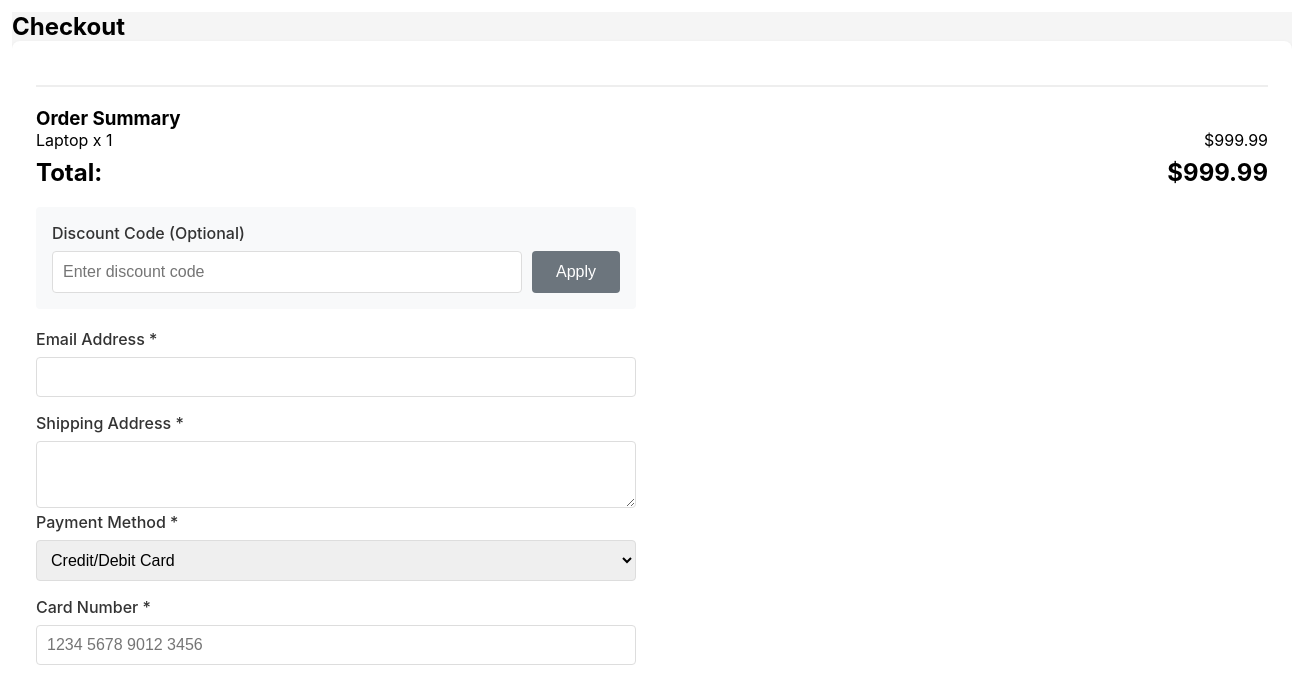
Test case: Checkout Component › applies discount code
Type "SAVE10" into the field with placeholder "Enter discount code" at (287, 272), box [52, 251, 522, 293]
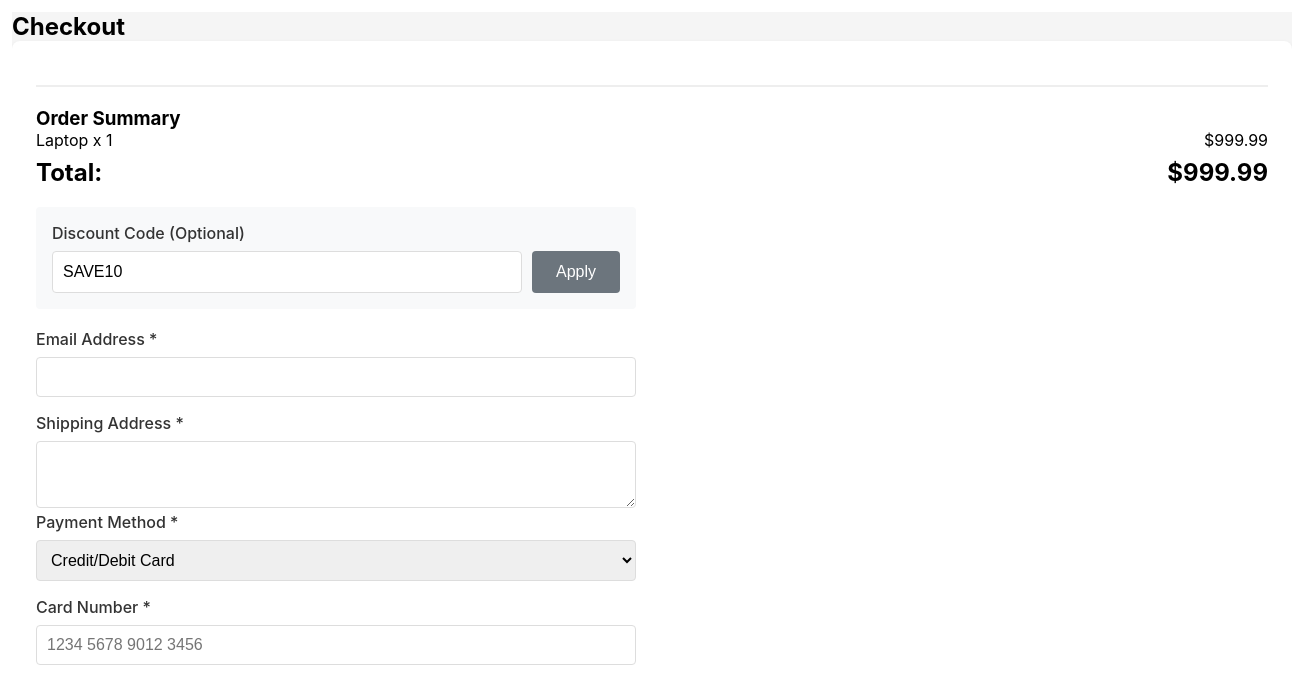
Click the button "Apply" at (576, 272), box [532, 251, 620, 293]
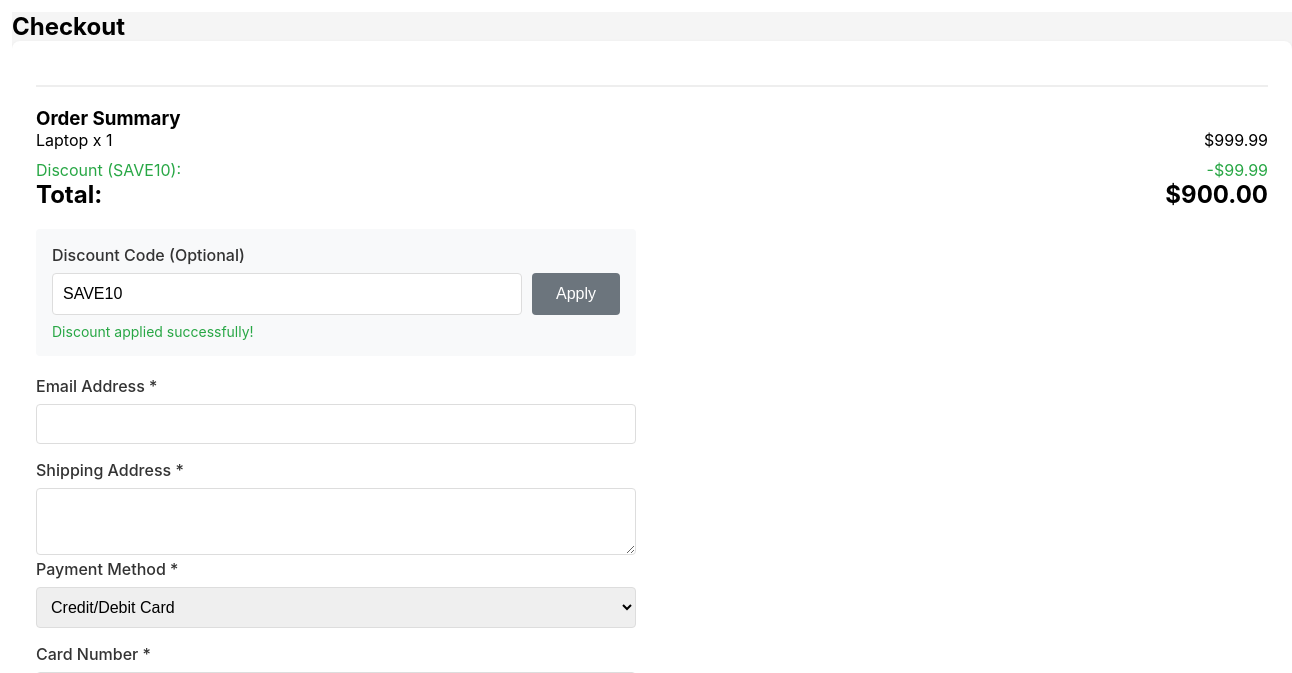
Now the text "Discount applied successfully!" is shown, box [52, 323, 254, 340]
